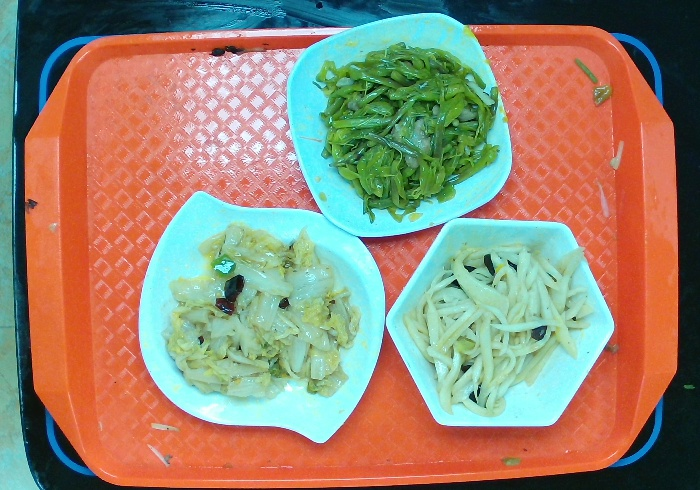RJxy-Liu_Jiao_Wan: (382, 214, 619, 435)
RJxy-Shuang_Jiao_Pan: (133, 187, 388, 449)
RJxy-Si_Fang_Wan: (282, 9, 519, 243)
